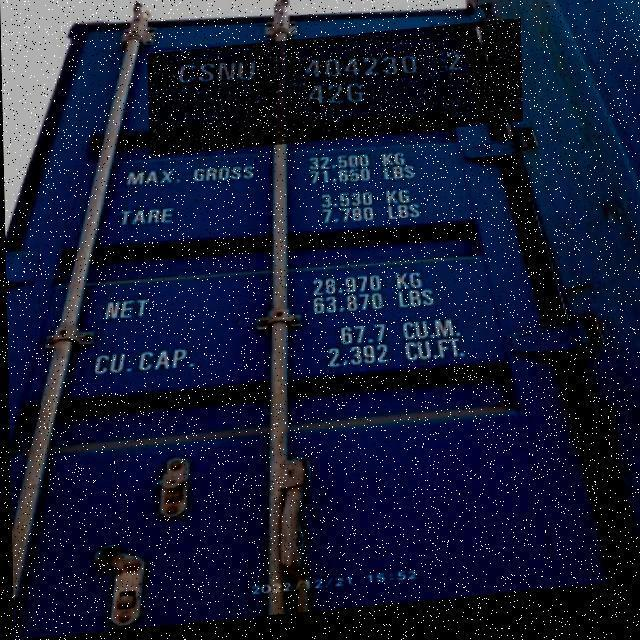container_number_h: (147, 29, 522, 160)
